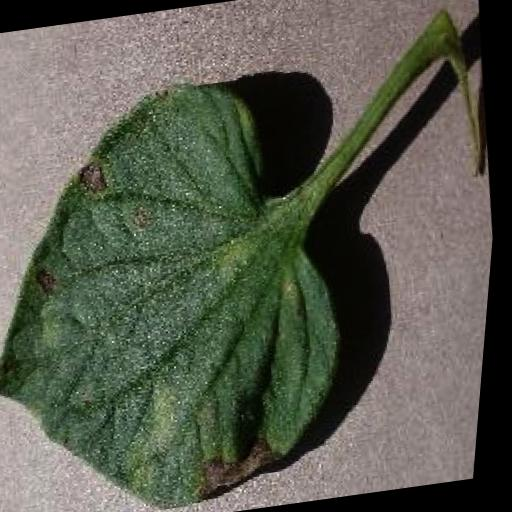Early Blight: (0, 69, 384, 512)
